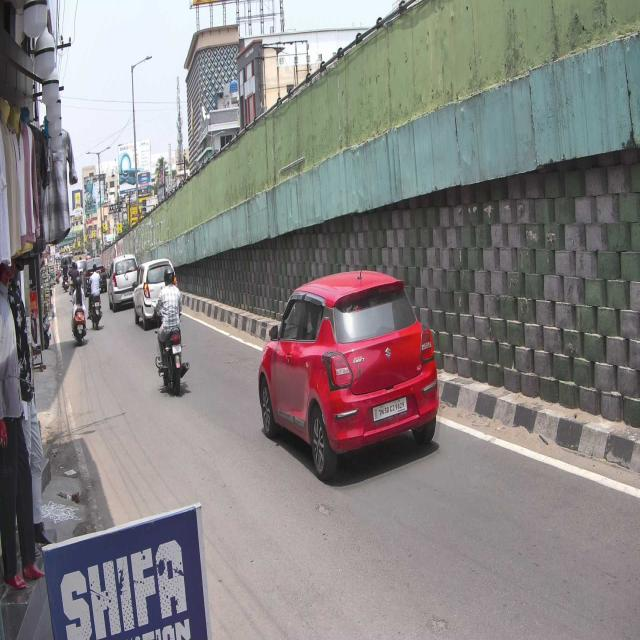single_rider: (152, 267, 192, 396)
